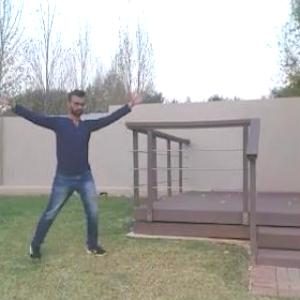takeoff: (0, 85, 143, 258)
